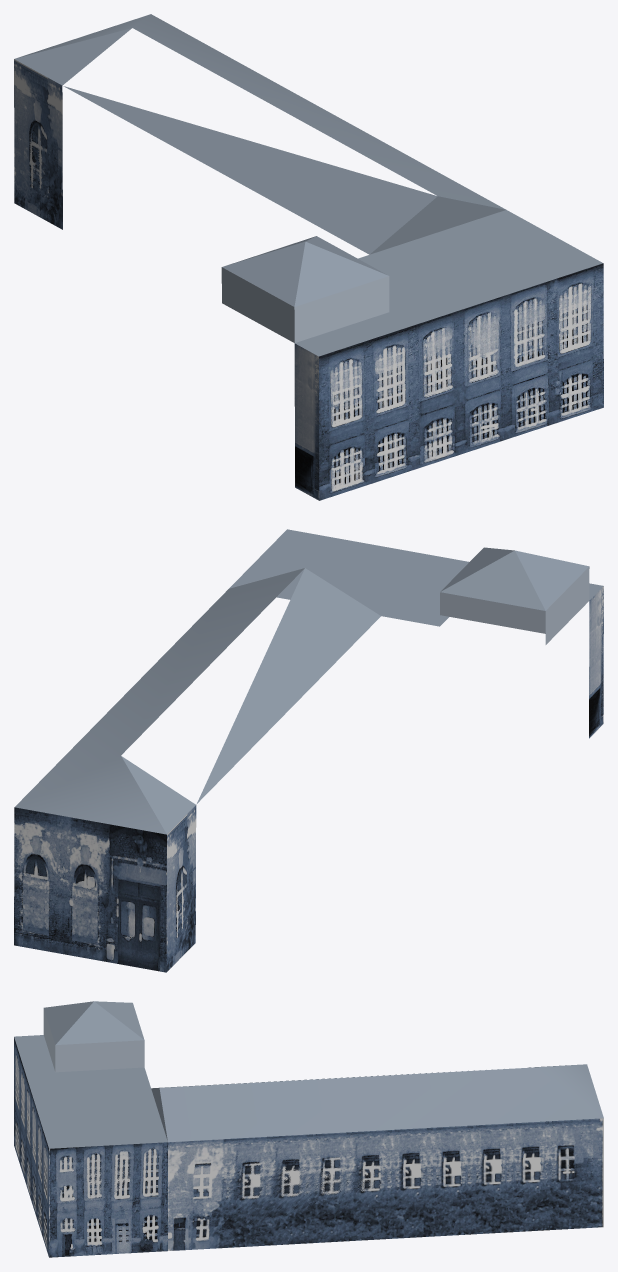
File: Sachsenber-Bau.gltf
3 renders of one model, top to bottom at view 1: azimuth 30°, elevation 25°; view 2: azimuth 150°, elevation 25°; view 3: azimuth 270°, elevation 25°, orthographic. The views are drawn at different scales.
Visible parts, largest first — view 1: Dach.1; view 2: Dach.1; view 3: Dach.1.
Boxes of the visible parts, bbox=[...] form: Dach.1: bbox=[14, 14, 603, 500]; Dach.1: bbox=[14, 529, 603, 972]; Dach.1: bbox=[14, 1001, 603, 1257].
Bounding box in the file's own units: 28.38 × 17.51 × 59.03.
8 materials, 6 textured.
